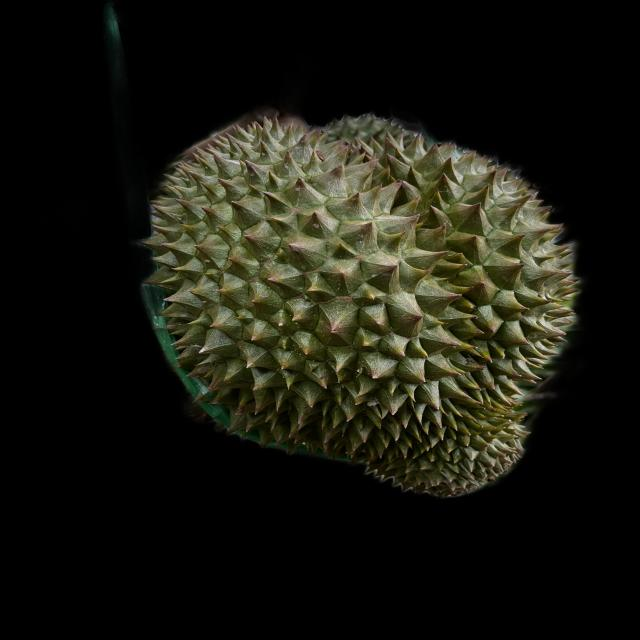immature: (153, 113, 582, 506)
